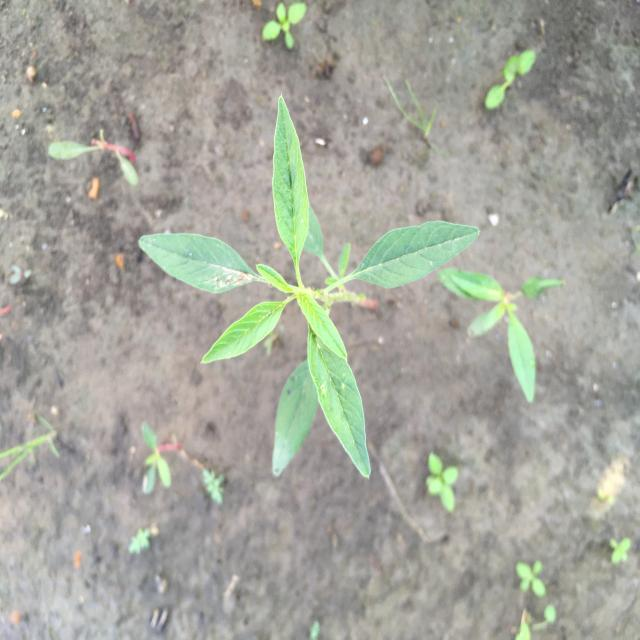Waterhemp: (136, 93, 482, 484)
